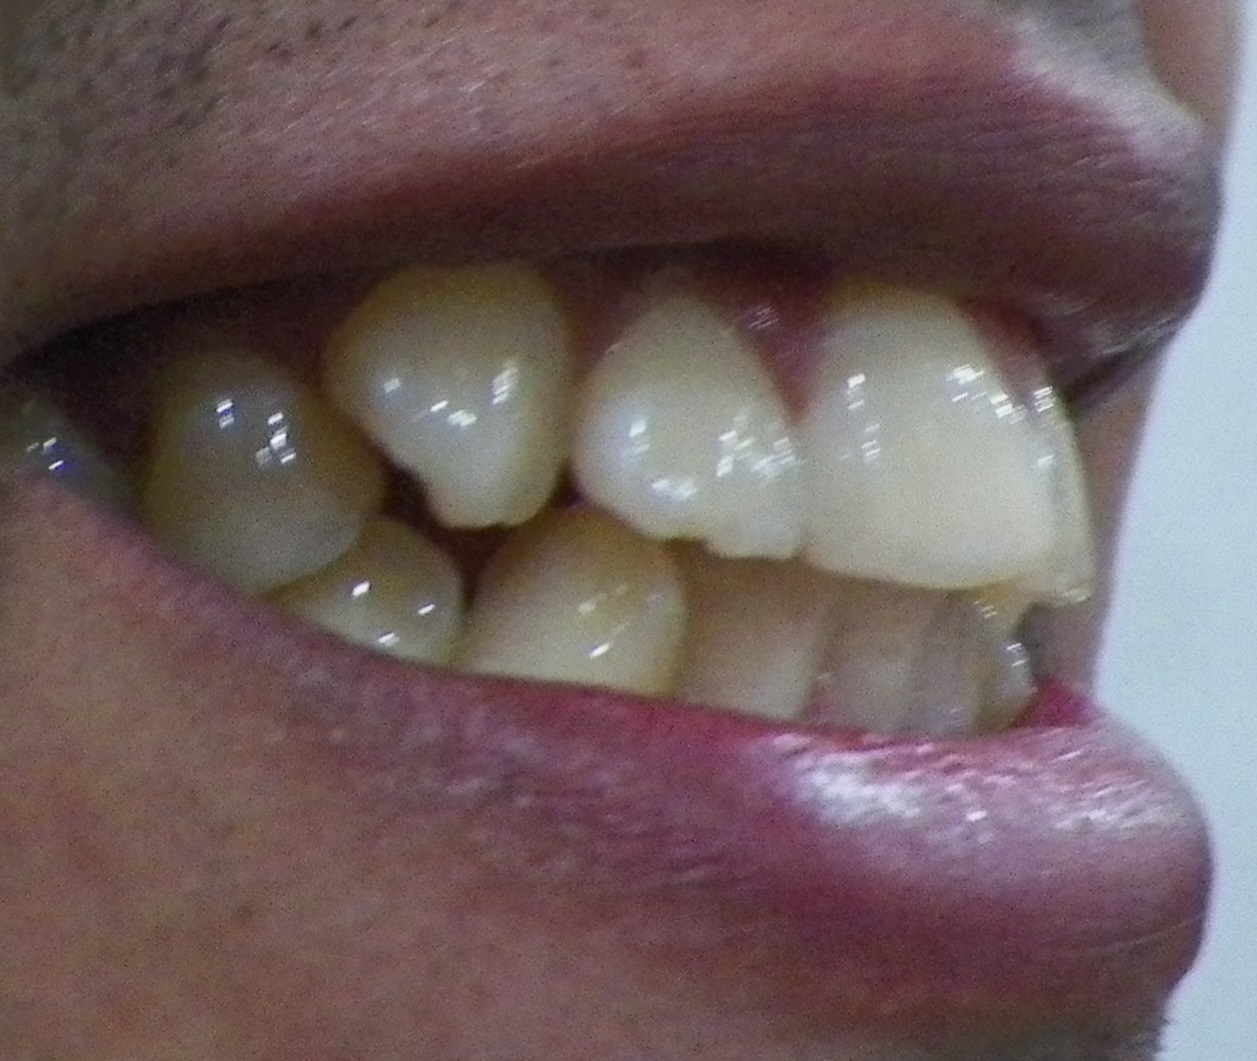boca: (142, 262, 1094, 746)
